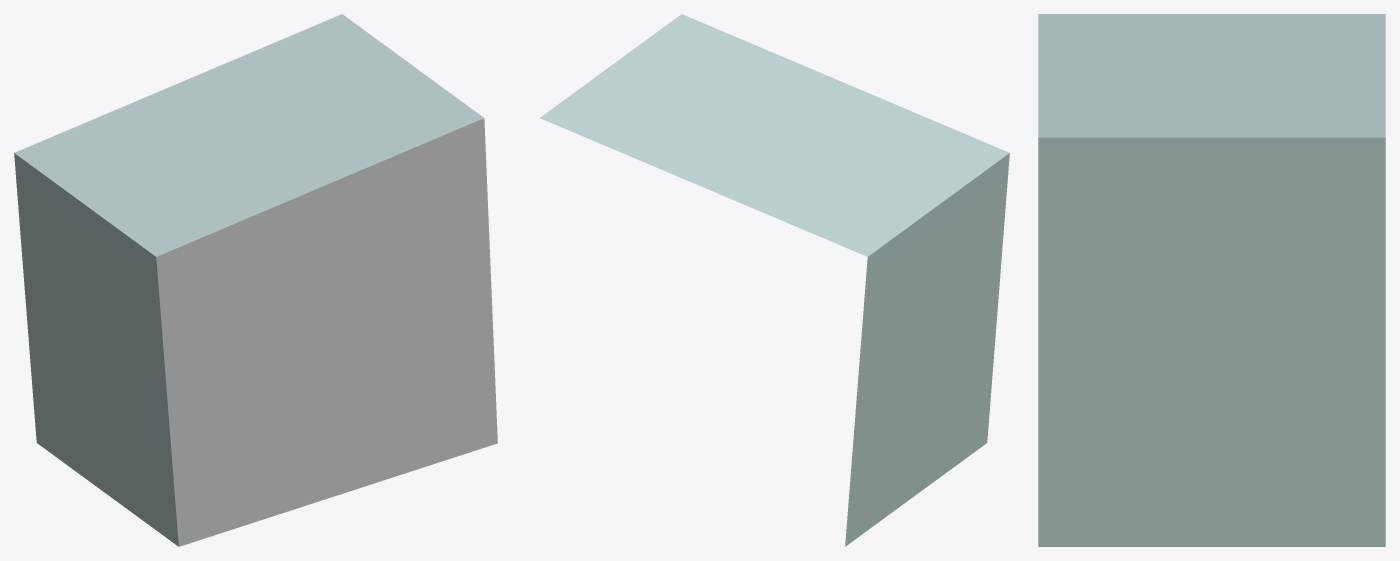
3 views of the same model, side by side, from view 1: azimuth 30°, elevation 25°; view 2: azimuth 150°, elevation 25°; view 3: azimuth 270°, elevation 25° (orthographic). The views are drawn at different scales.
Parts seen in each view (by area): view 1: 0_2_2_1_0_3_1_1_0; view 2: 0_2_2_1_0_3_1_1_0; view 3: 0_2_2_1_0_3_1_1_0.
Boxes of the visible parts, <box> form: 0_2_2_1_0_3_1_1_0: <box>14,14,497,546</box>; 0_2_2_1_0_3_1_1_0: <box>540,14,1009,546</box>; 0_2_2_1_0_3_1_1_0: <box>1038,14,1385,546</box>.
Size of the model in its own units: 4.16 by 4.12 by 3.
